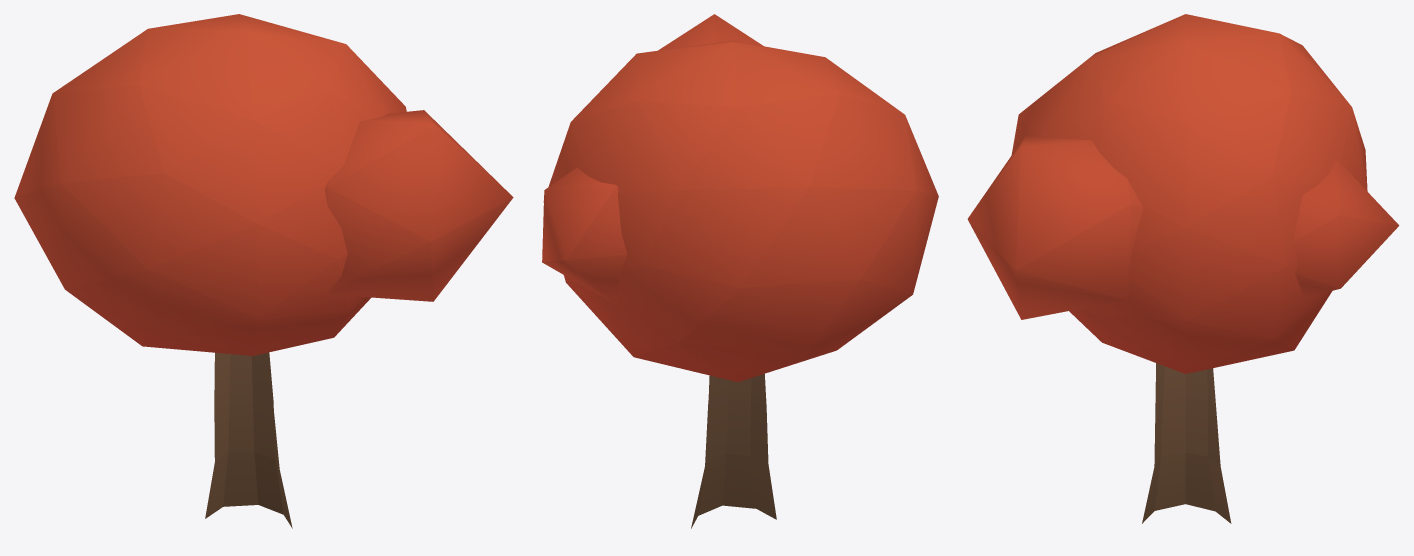
File: autumn_tree_1.glb
The picture shows the model from 3 angles, left to right: view 1: azimuth 30°, elevation 25°; view 2: azimuth 150°, elevation 25°; view 3: azimuth 270°, elevation 25°; orthographic projection.
Visible parts, largest first — view 1: autumn_tree_1; view 2: autumn_tree_1; view 3: autumn_tree_1.
Part boxes in pixels (<box>): autumn_tree_1: <box>14,14,513,528</box>; autumn_tree_1: <box>542,14,938,528</box>; autumn_tree_1: <box>967,14,1399,523</box>.
Bounding box in the file's own units: 3.01 × 3.85 × 3.12.
